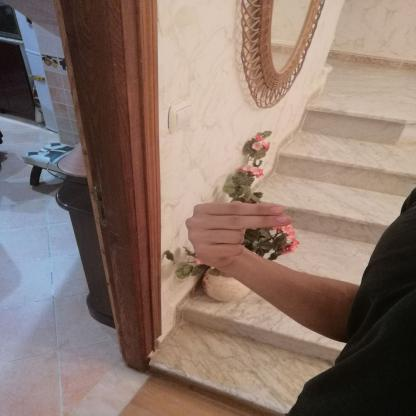AYN: (169, 191, 304, 278)
